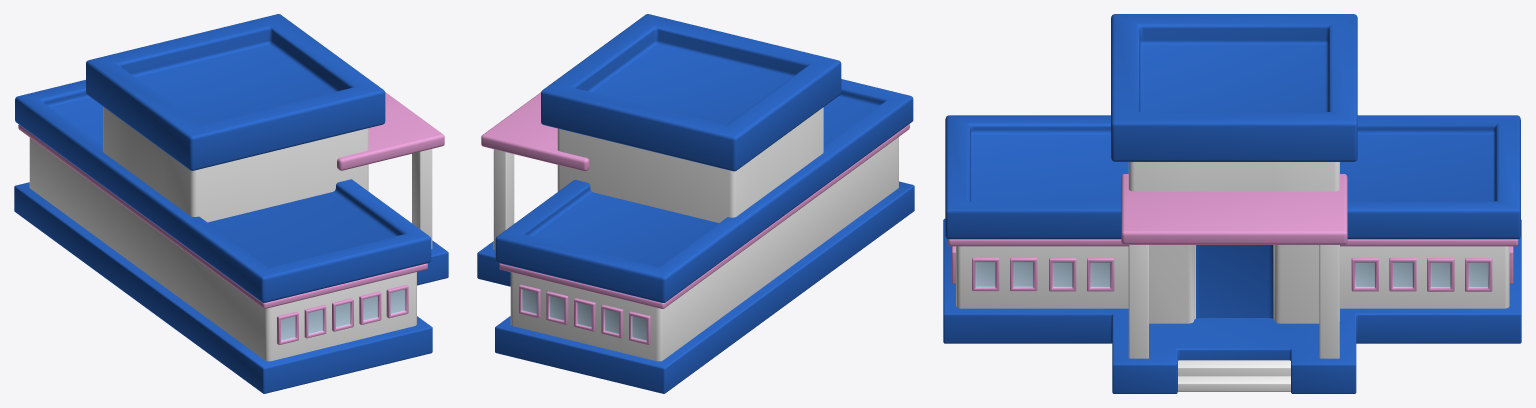
Rendered from PIP_nursing-home-3d-8.glb.
The picture shows the model from 3 angles, left to right: view 1: azimuth 30°, elevation 25°; view 2: azimuth 150°, elevation 25°; view 3: azimuth 270°, elevation 25°; orthographic projection. The views are drawn at different scales.
Visible parts, largest first — view 1: Cube.033, Cube.030, Cube.031, Cube.034, Cube.029, Cube.035, Cube.043, Cube.032, Cube.039; view 2: Cube.033, Cube.030, Cube.031, Cube.034, Cube.029, Cube.035, Cube.044, Cube.032, Cube.038; view 3: Cube.030, Cube.033, Cube.034, Cube.029, Cube.031, Cube.035, Cube.032, Cube.038, Cube.039, Cube.036, Cube.037, Cube.046 (+7 smaller).
Part boxes in pixels (x1,y1,x2,y2): Cube.033: (86,14,385,170); Cube.030: (15,80,431,302); Cube.031: (29,138,416,361); Cube.034: (14,182,448,393); Cube.029: (103,107,368,222); Cube.035: (337,92,444,170); Cube.043: (277,285,408,344); Cube.032: (18,124,427,308); Cube.039: (412,149,432,249); Cube.033: (541,14,841,171); Cube.030: (495,79,913,302); Cube.031: (510,137,898,361); Cube.034: (477,181,914,393); Cube.029: (557,107,823,222); Cube.035: (481,92,589,171); Cube.044: (519,284,650,344); Cube.032: (499,124,909,308); Cube.038: (493,149,514,249); Cube.030: (945,115,1520,239); Cube.033: (1111,14,1357,161); Cube.034: (943,218,1521,393); Cube.029: (1128,162,1339,323); Cube.031: (956,246,1509,308); Cube.035: (1121,174,1347,244); Cube.032: (948,239,1518,246); Cube.038: (1319,245,1339,358); Cube.039: (1128,245,1148,358); Cube.036: (1178,360,1290,376); Cube.037: (1178,376,1290,391); Cube.046: (972,257,999,291).
Size of the model in its own units: 0.8053 by 0.6048 by 1.34.
